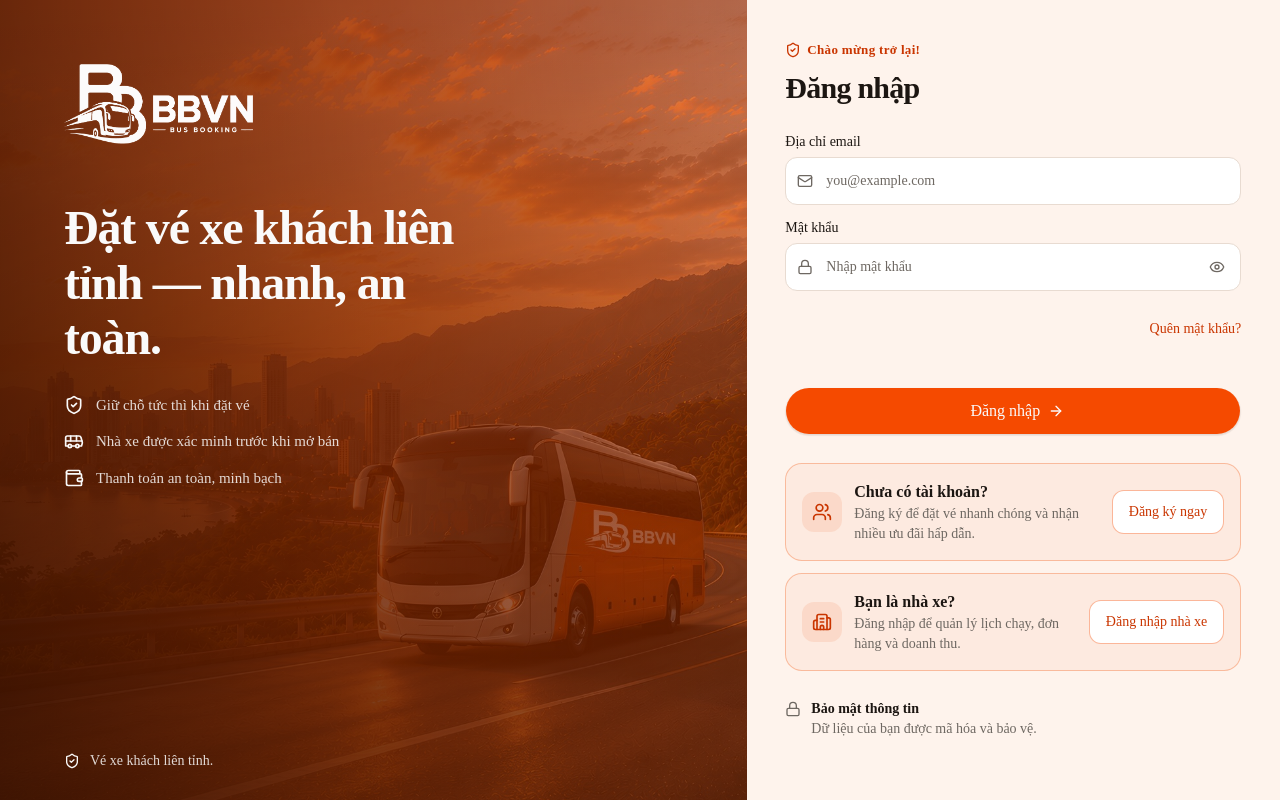
LoginPage › shows the lockout message on a 429 LOCKED_OUT
Type "a@example.com" into the field labelled "Địa chỉ email". click: (1013, 181)
box: [785,157,1241,205]
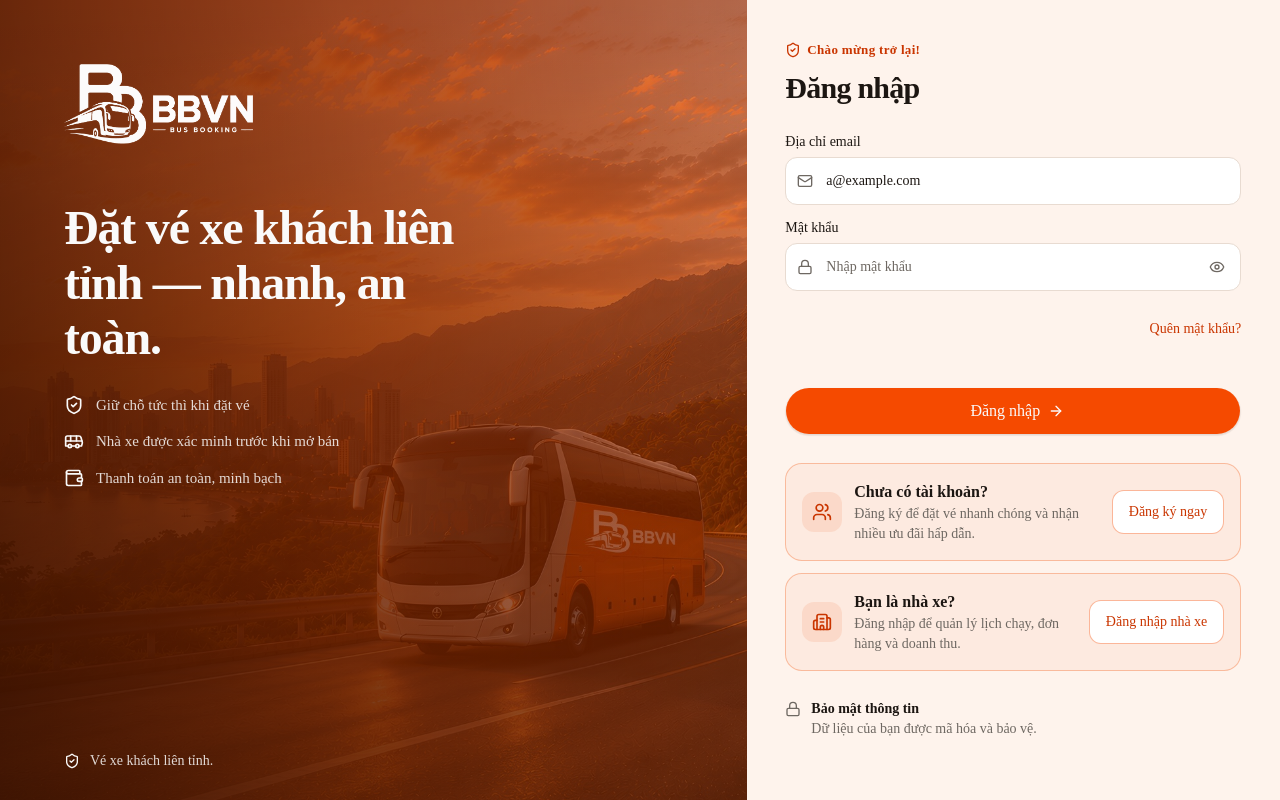
Type "WrongPass1" into the password field labelled "Mật khẩu". click: (1013, 267)
box: [785,243,1241,291]
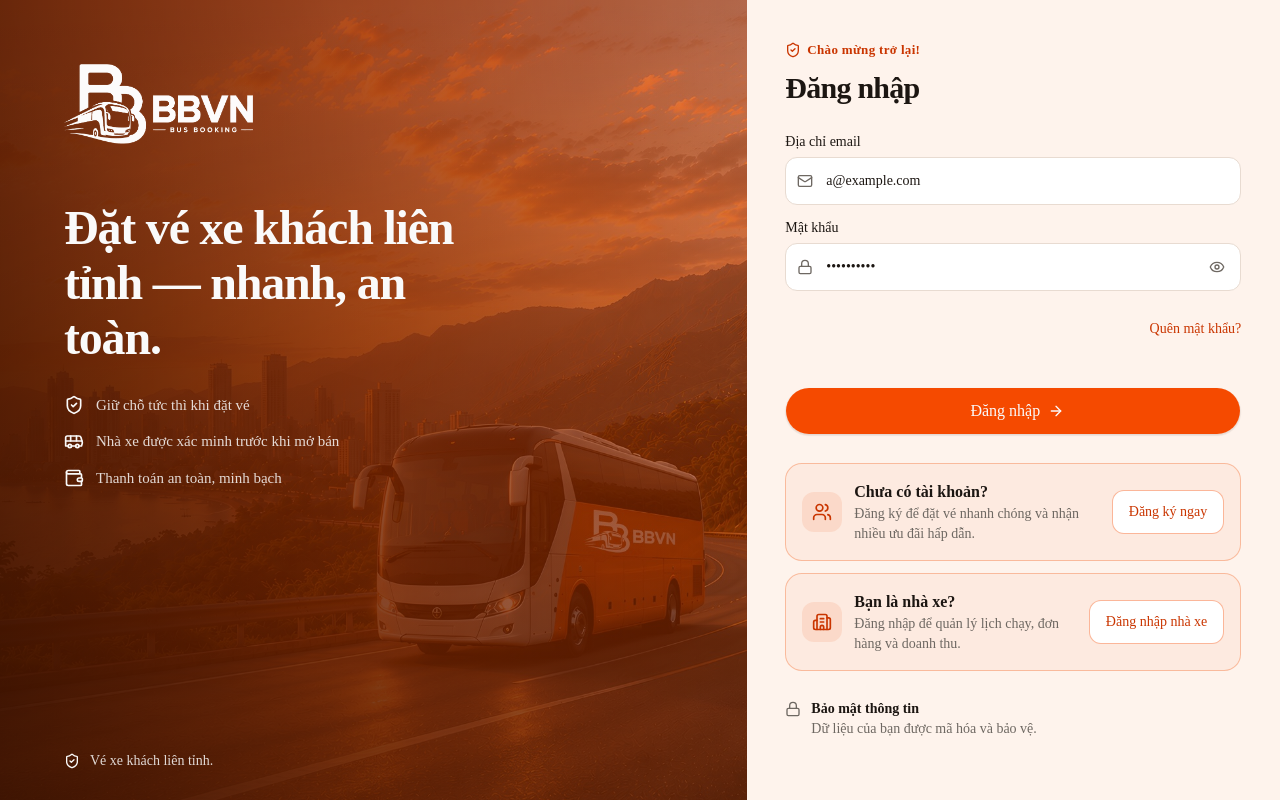
Submit the form labelled "Địa chỉ email", box [785,135,1241,435]
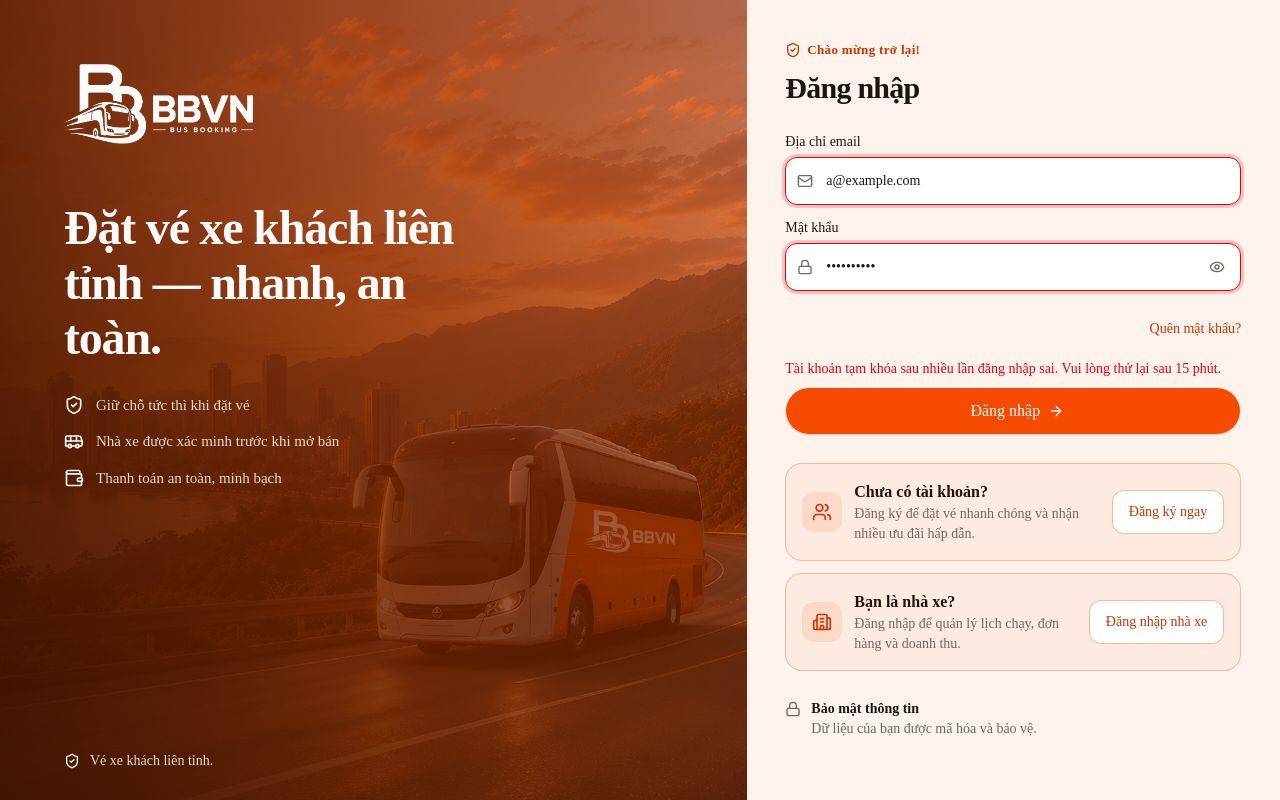
Now the text "Tài khoản tạm khóa sau nhiều lần đăng nhập sai. Vui lòng thử lại sau 15 phút." is shown, box [785,359,1241,379]
